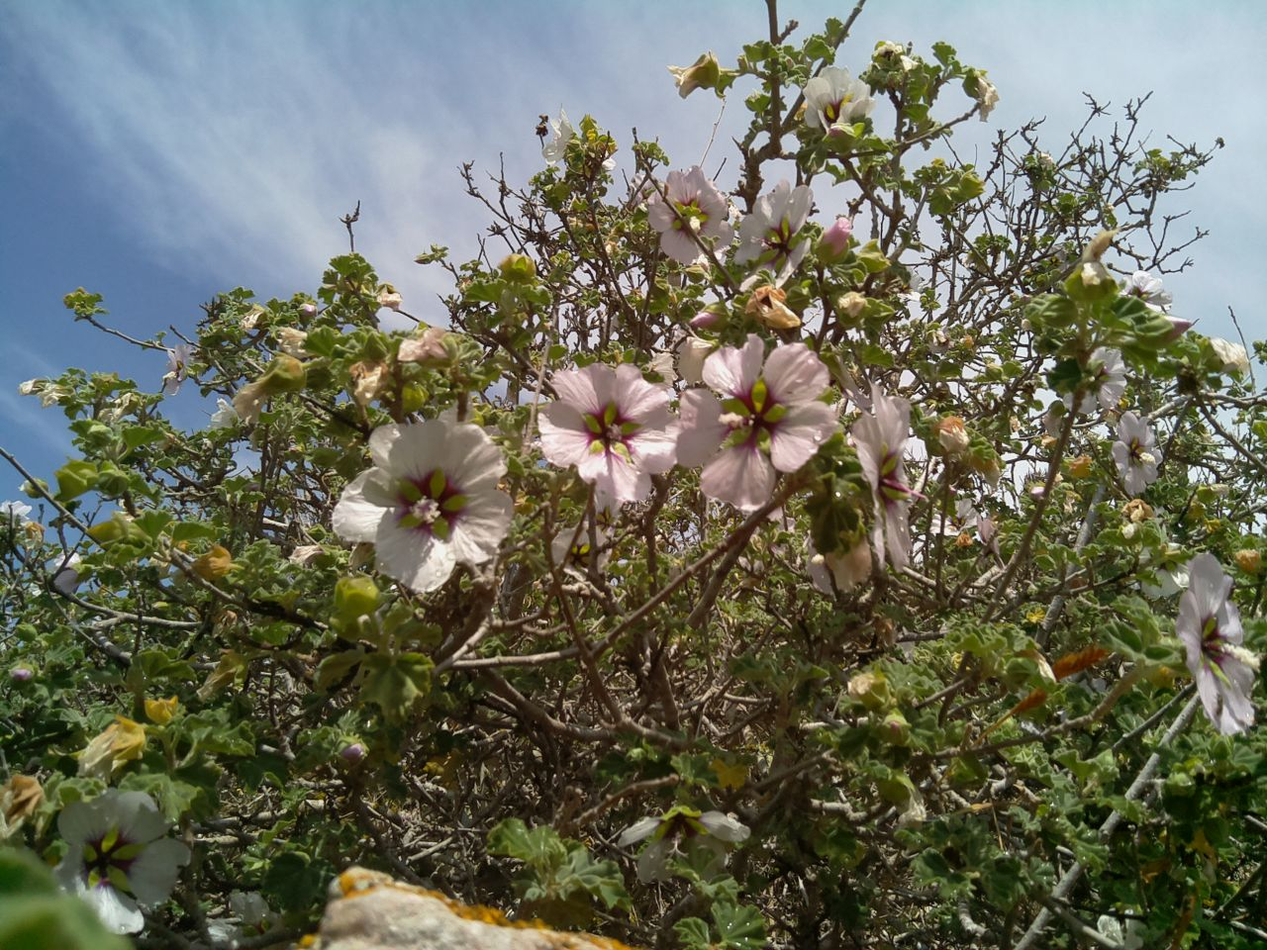Unidentified insect: (1200, 689, 1236, 718)
